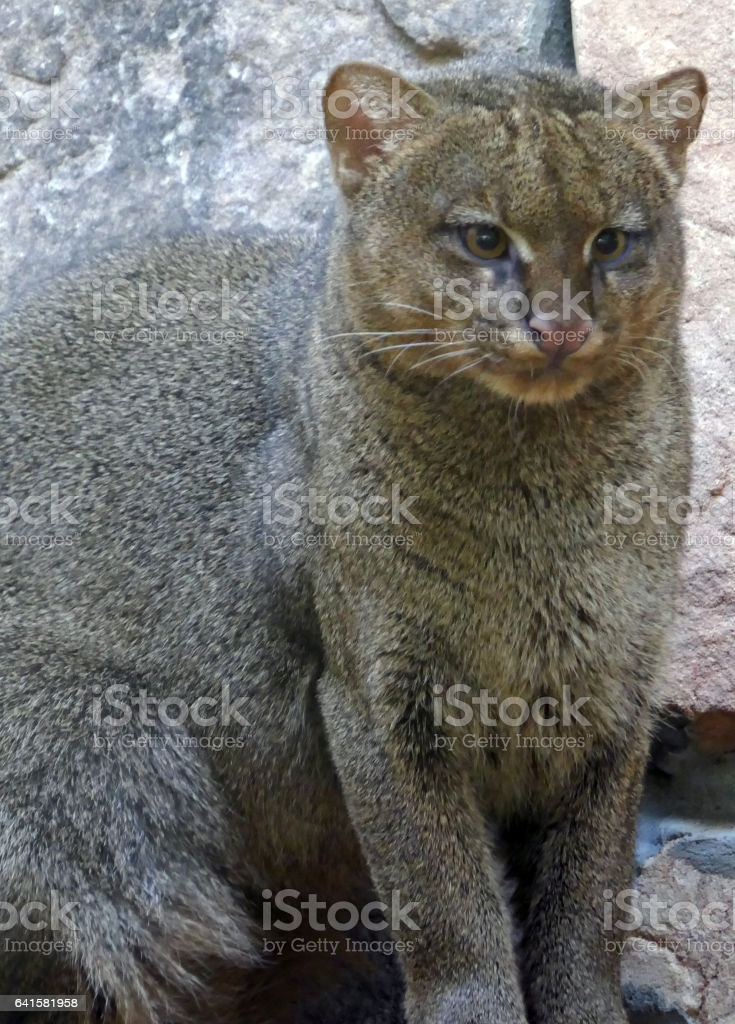Jaguarundi: (27, 53, 715, 992)
